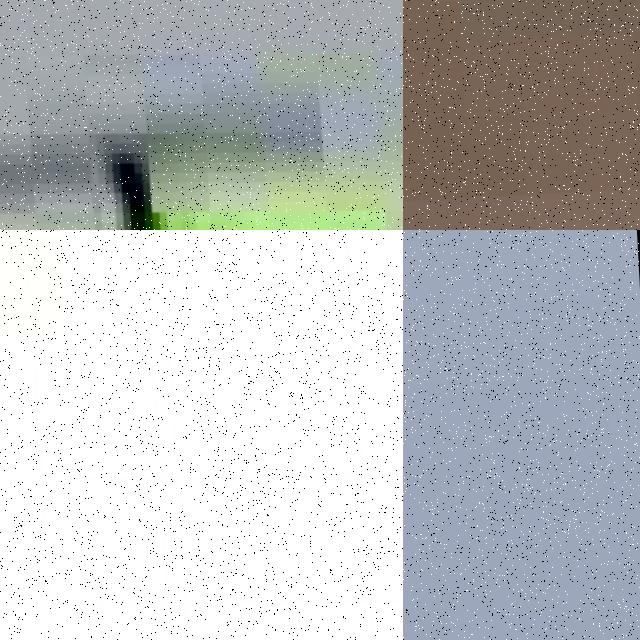drone: (0, 230, 403, 640), (0, 0, 403, 230)
